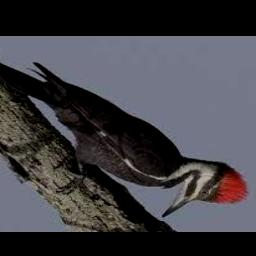Woodpecker: (0, 51, 249, 218)
